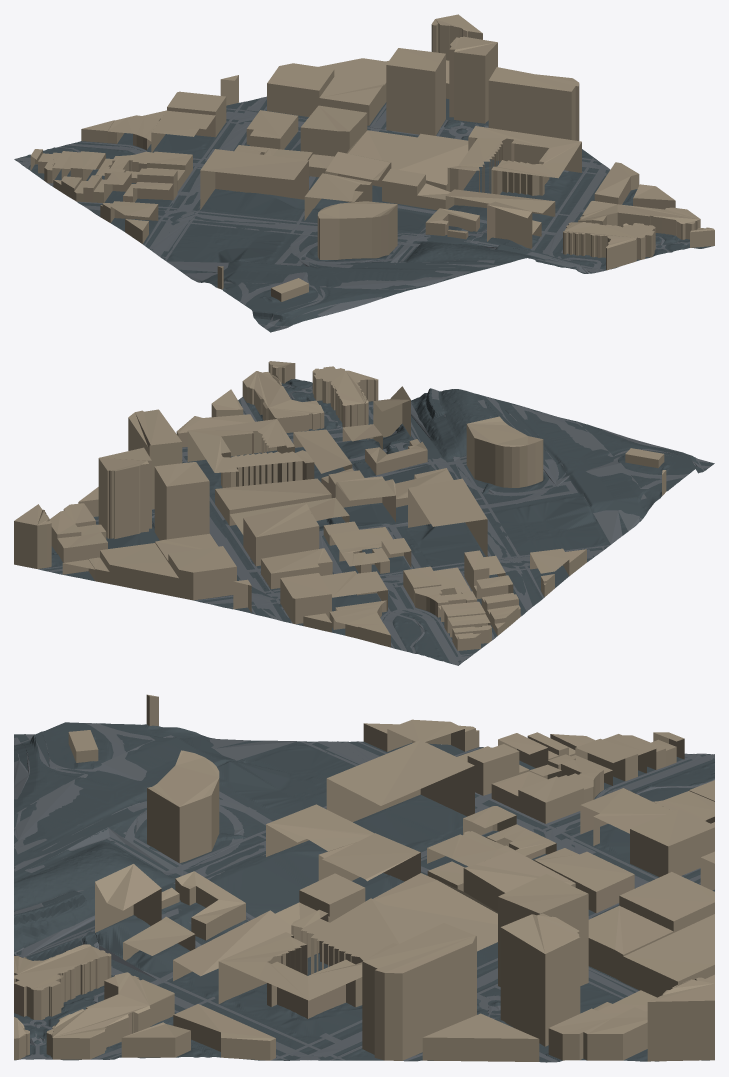
Rendered from epsg26910-1441-10890.lod0.glb.
3 views of the same model, one above another, from view 1: azimuth 30°, elevation 25°; view 2: azimuth 150°, elevation 25°; view 3: azimuth 270°, elevation 25° (orthographic). The views are drawn at different scales.
Visible parts, largest first — view 1: epsg26910-1441-10890-lod0; view 2: epsg26910-1441-10890-lod0; view 3: epsg26910-1441-10890-lod0.
Part boxes in pixels (x1=…): epsg26910-1441-10890-lod0: x1=14, y1=14, x2=714, y2=332; epsg26910-1441-10890-lod0: x1=14, y1=361, x2=714, y2=665; epsg26910-1441-10890-lod0: x1=14, y1=694, x2=714, y2=1062.
Size of the model in its own units: 384 by 62.76 by 384.
